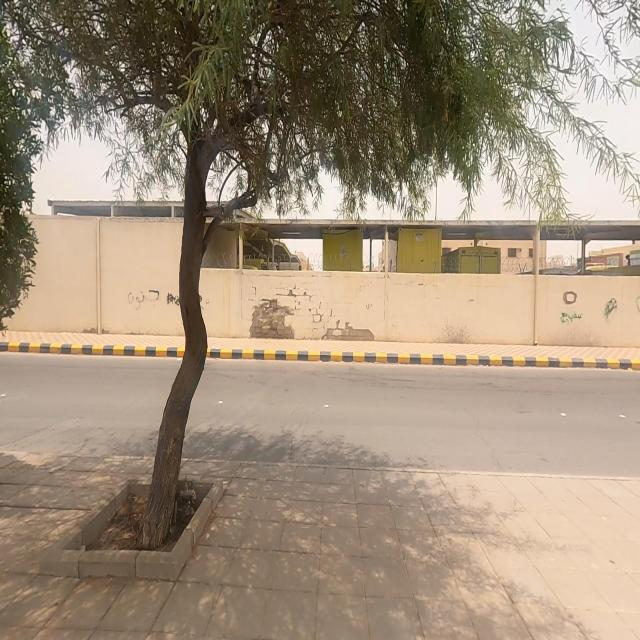Graffiti: (128, 287, 181, 314), (560, 311, 586, 329), (604, 296, 618, 321)
